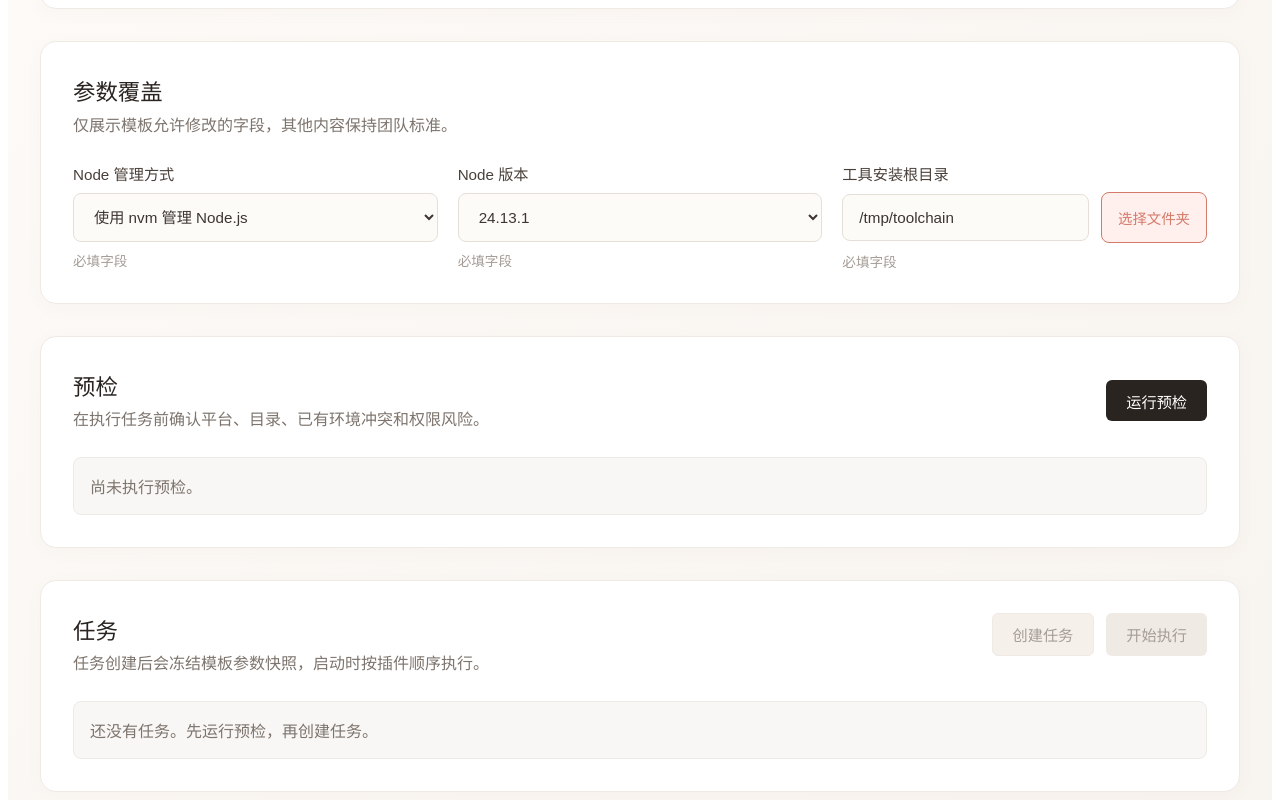
Test case: App › shows detected environments and cleanup action after precheck
The image size is (1280, 800).
(page scrolled)
Step 1. Click the button "运行预检" → (1157, 401), box 1106,380 -> 1207,421
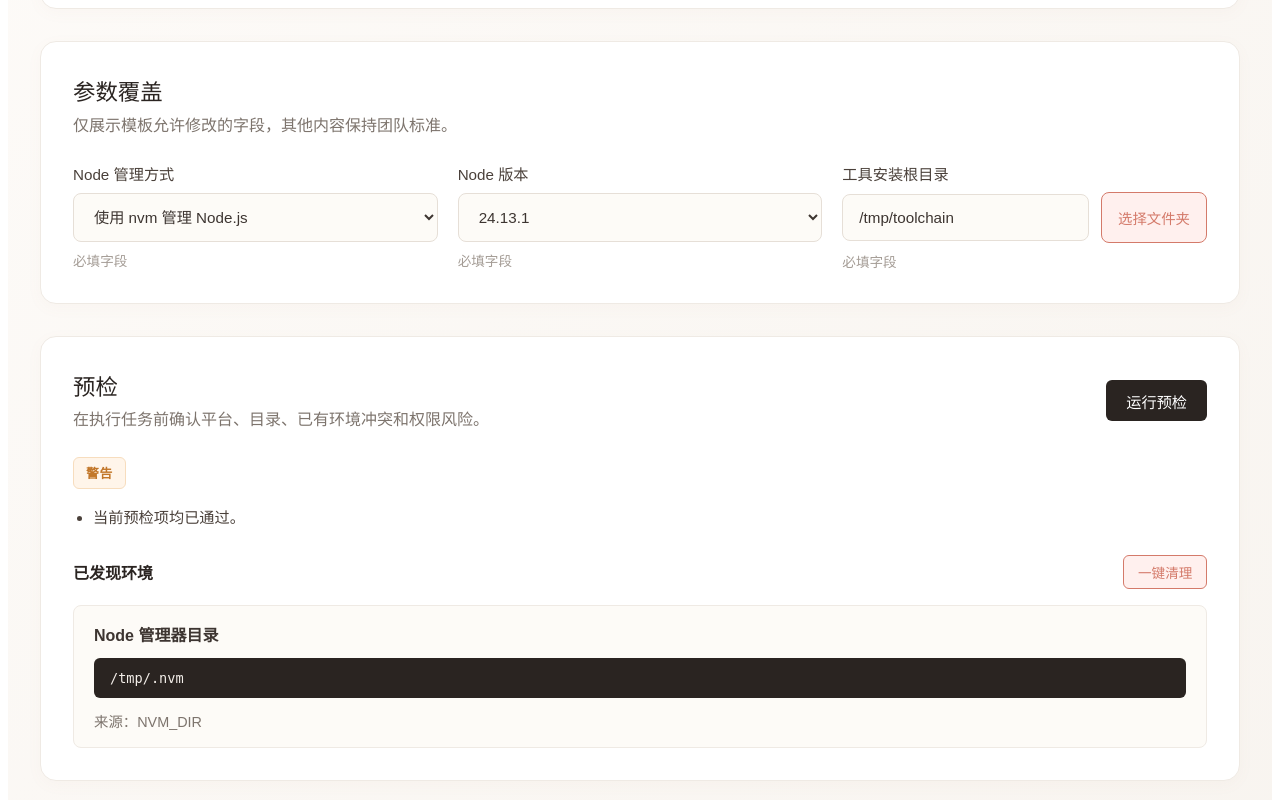
Expected: the text "已发现环境" is shown, 73,560 -> 153,584
Expected: the text "Node 管理器目录" is shown, 94,622 -> 218,646
Expected: the button "一键清理" is shown, 1123,555 -> 1207,590
